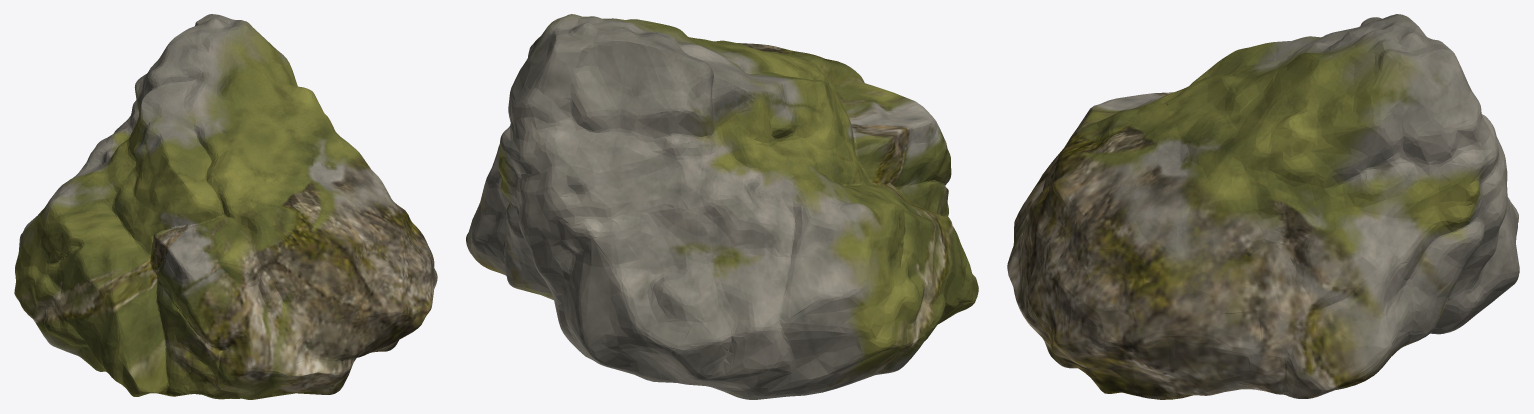
File: Roca.glb
3 renders of one model, left to right at view 1: azimuth 30°, elevation 25°; view 2: azimuth 150°, elevation 25°; view 3: azimuth 270°, elevation 25°, orthographic. The views are drawn at different scales.
Visible parts, largest first — view 1: world; view 2: world; view 3: world.
Part boxes in pixels (x1,y1,x2,y2): world: (14,14,437,399); world: (466,14,978,399); world: (1007,14,1519,399).
Size of the model in its own units: 1.85 by 1.4 by 1.88.
Materials: 1 (1 with a texture image).
